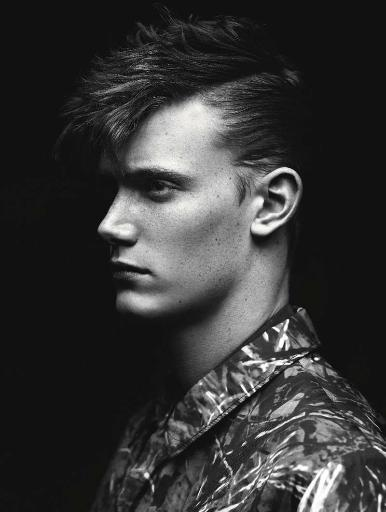left_eye: (135, 174, 189, 202)
left_lip_corner: (141, 261, 161, 286)
